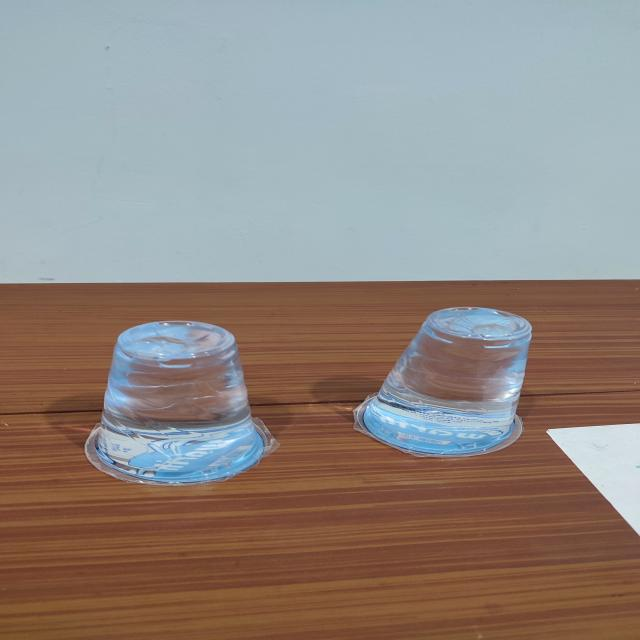air gelas: (76, 316, 300, 490), (343, 302, 552, 467)
